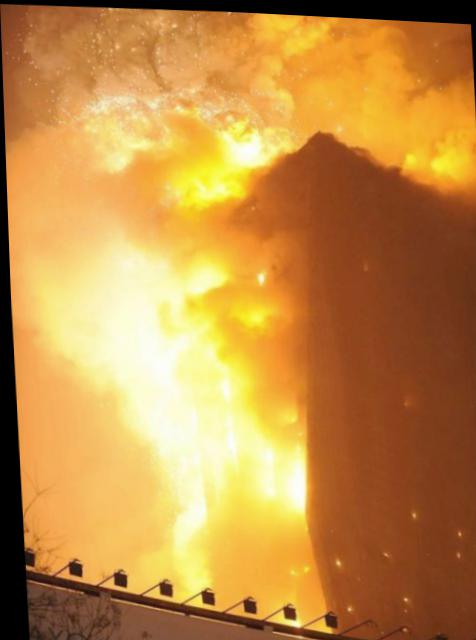fire: (75, 57, 346, 608)
